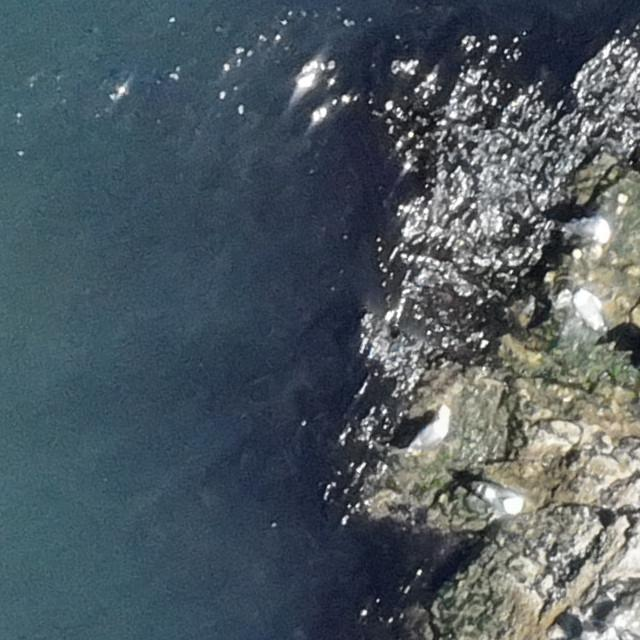umineko: (459, 478, 521, 515), (414, 410, 454, 451), (574, 292, 608, 336), (569, 220, 610, 246)
